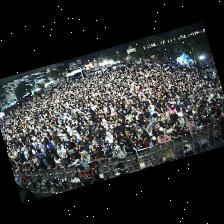person: (122, 142, 138, 164), (56, 145, 68, 165), (35, 149, 47, 167), (135, 135, 148, 149), (63, 137, 73, 155), (91, 148, 104, 161), (156, 132, 170, 144), (44, 138, 55, 153), (79, 141, 90, 156), (112, 146, 124, 159), (69, 152, 80, 165), (36, 157, 46, 171), (70, 136, 79, 151), (208, 113, 218, 126), (105, 132, 113, 148), (170, 127, 180, 139), (45, 156, 54, 169), (119, 131, 128, 144), (163, 117, 173, 128), (90, 126, 99, 138), (128, 131, 137, 143), (112, 138, 121, 150), (80, 151, 89, 163), (185, 116, 194, 128), (53, 155, 61, 168), (146, 124, 154, 137), (91, 141, 101, 151), (93, 135, 102, 146), (202, 115, 211, 126), (163, 124, 172, 135), (105, 146, 112, 160), (31, 155, 38, 169), (195, 118, 202, 131), (168, 104, 176, 115), (177, 115, 184, 127), (38, 146, 45, 158), (101, 141, 107, 155), (149, 137, 157, 147), (92, 175, 102, 182), (189, 126, 196, 136), (22, 147, 28, 158), (153, 126, 159, 137), (101, 119, 107, 130), (16, 164, 24, 172), (136, 129, 142, 139), (155, 123, 162, 131)
